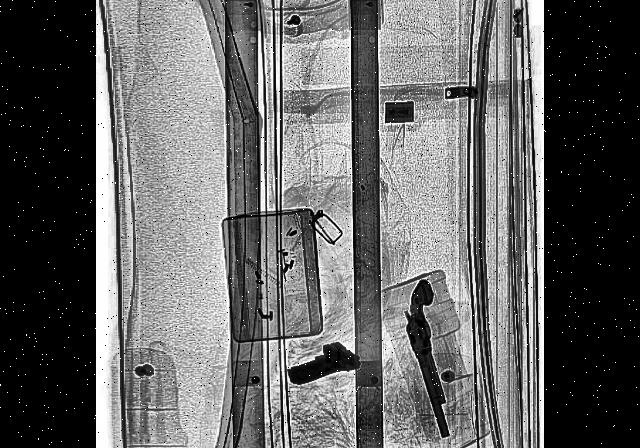Gun: (396, 276, 472, 442), (286, 334, 360, 390)
